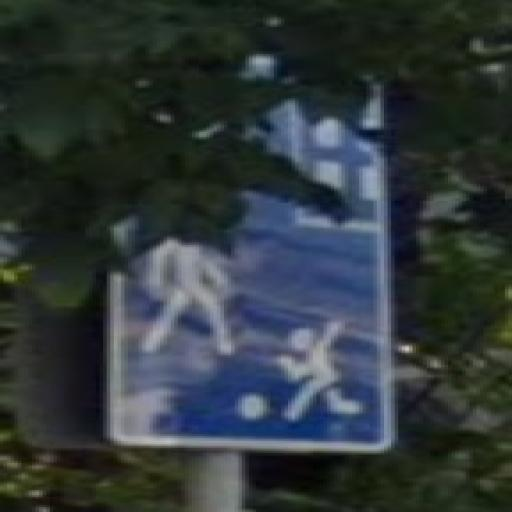traffic_sign: (101, 43, 399, 456)
